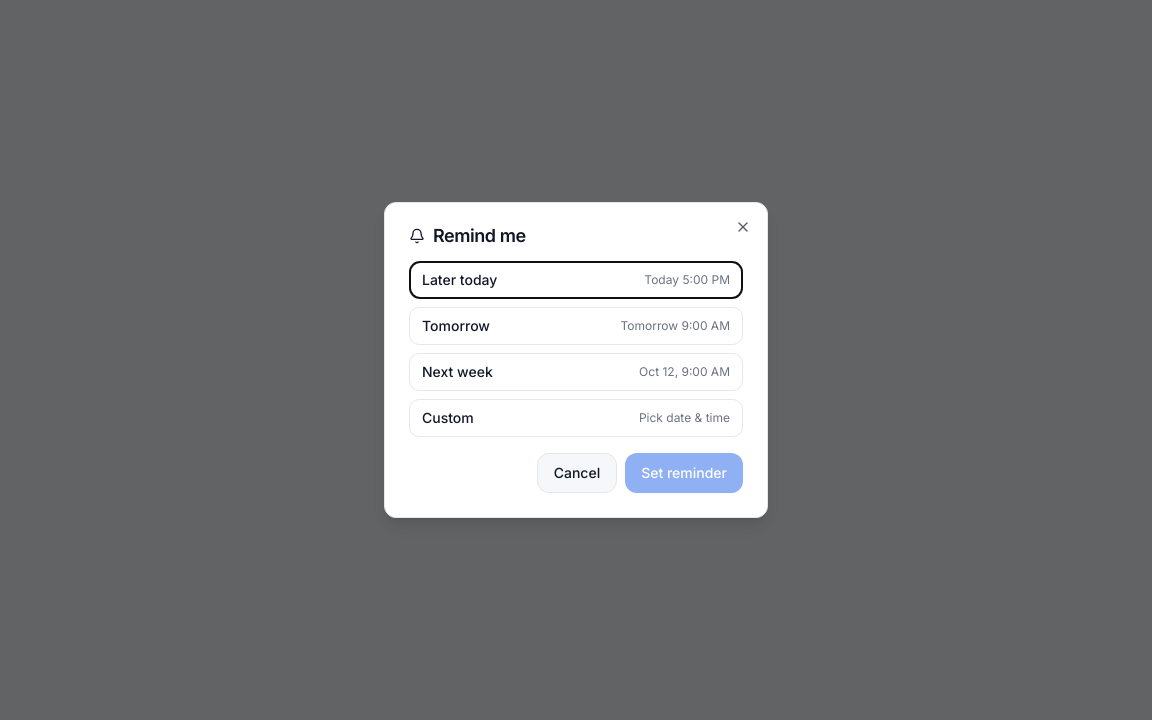
Test: Remind me dialog › rejects a custom time more than a year out
The image size is (1152, 720).
Click the button with test id "remind-preset-custom": point(448, 418) [409,399,743,437]
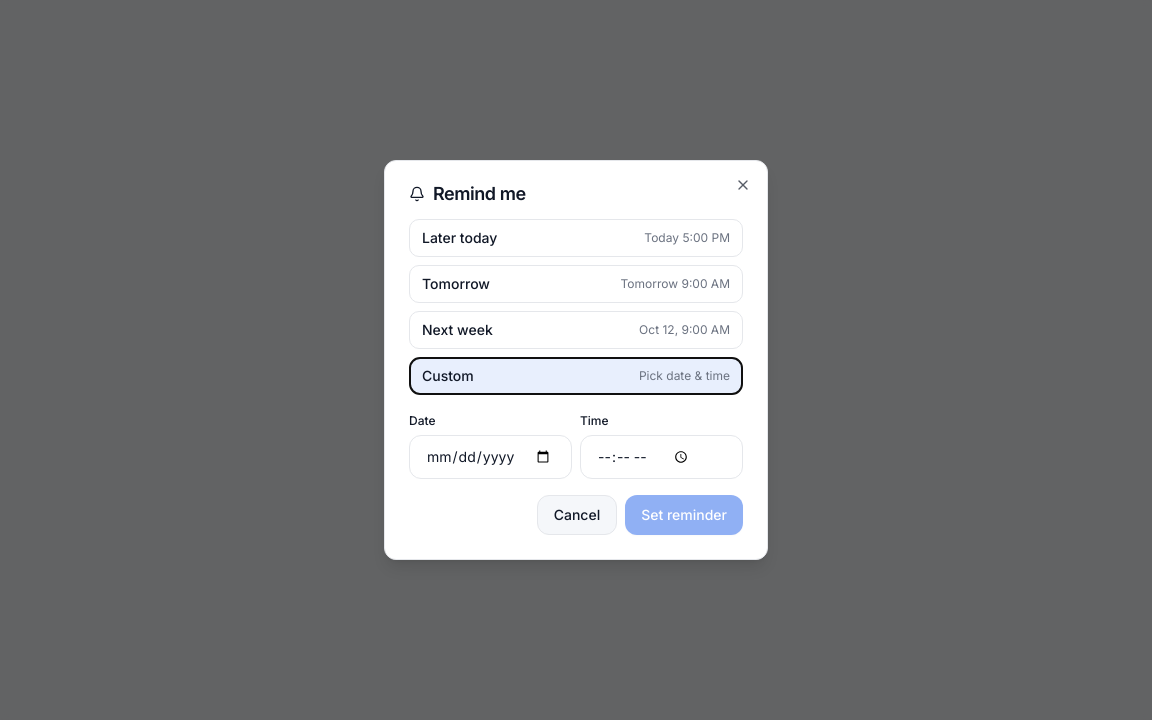
In the date field labelled "Date": point(490, 457) [409,435,572,479], type "2028-01-01"
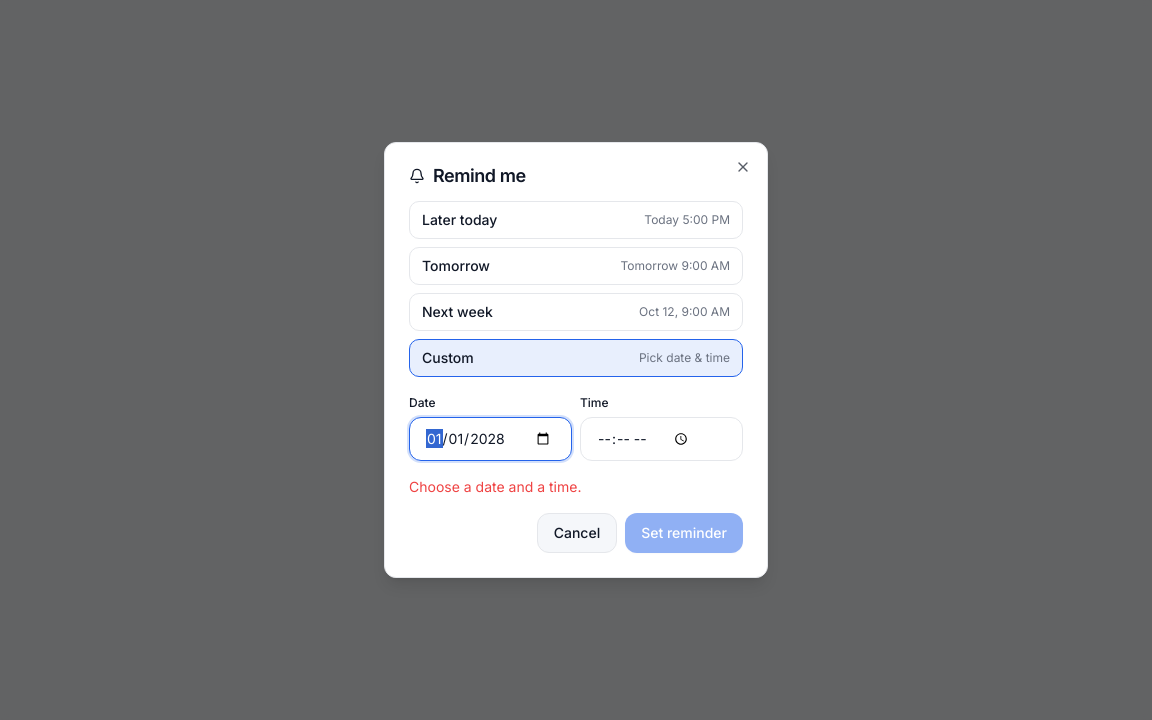
In the time field labelled "Time": point(662, 439) [580,417,743,461], type "09:00"
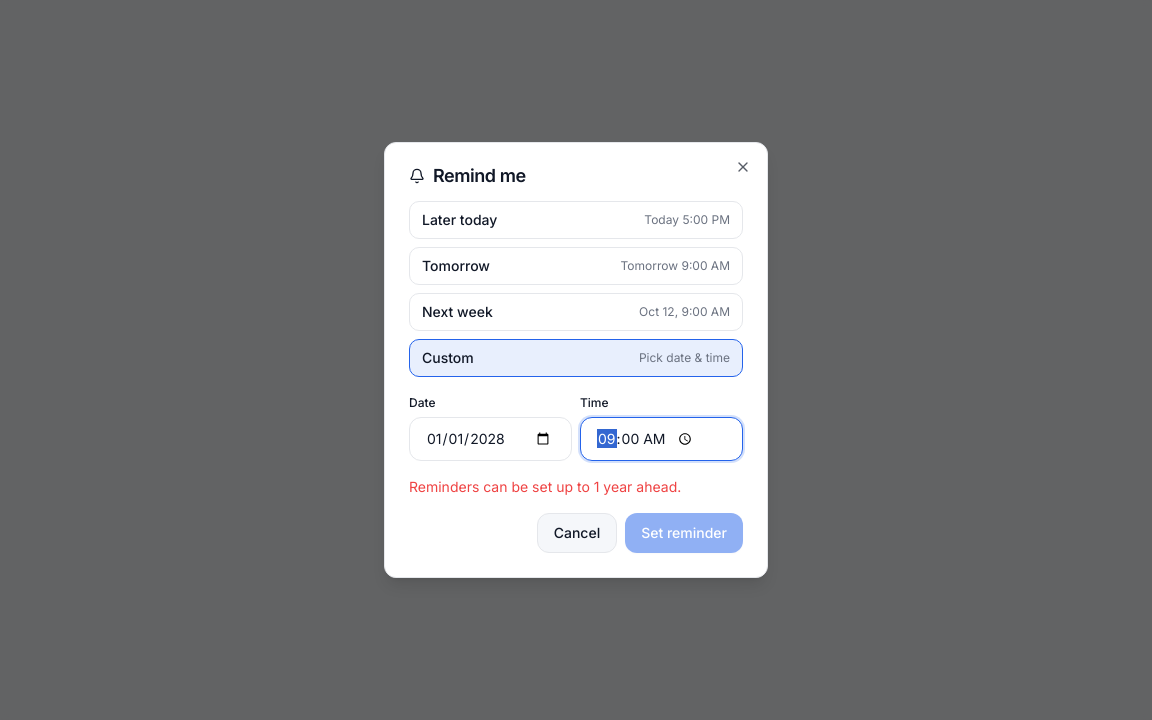
Check: the button "Set reminder" is disabled, box [625,513,743,553]
Check: the message shows "1 year", box [409,478,681,495]
